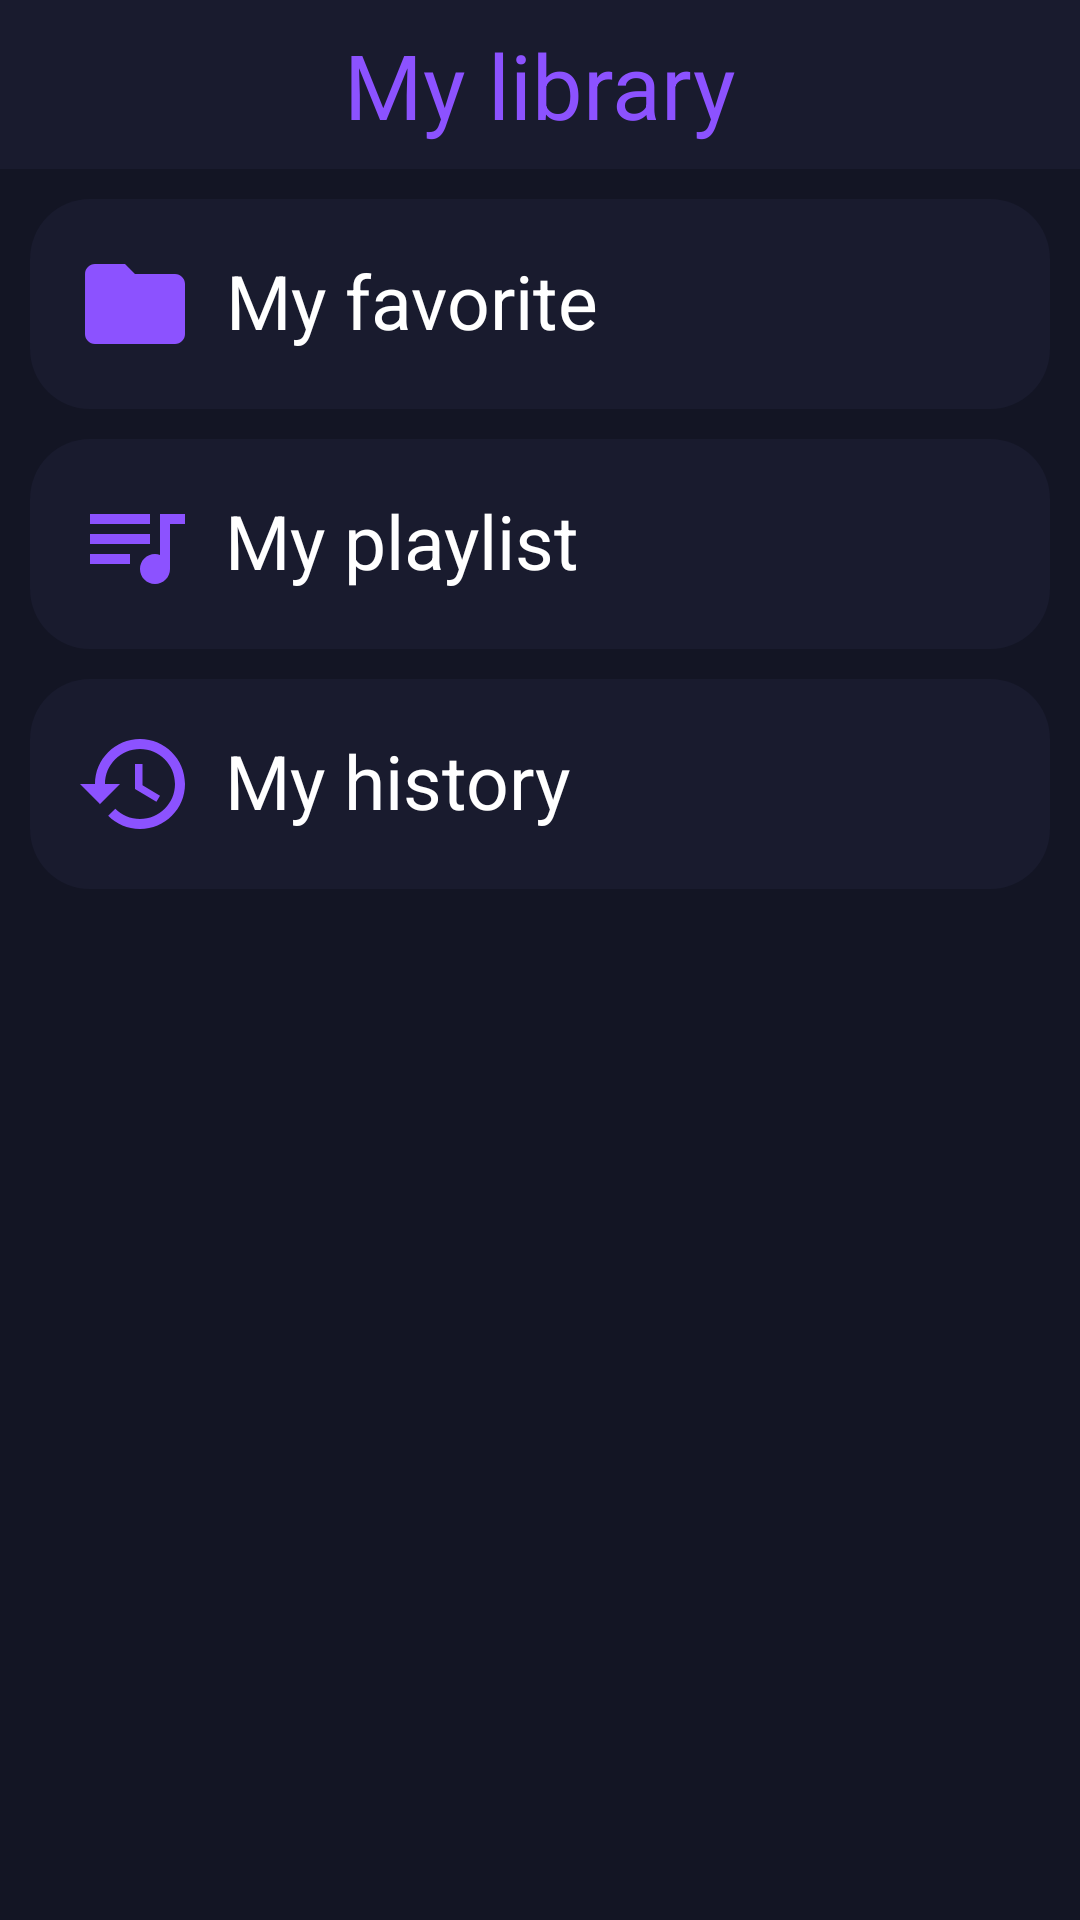

Screen size 1080px x 1920px. Icon name, then its center in pixels as [x,y]:
folder: [135,304]
queue music: [137,549]
